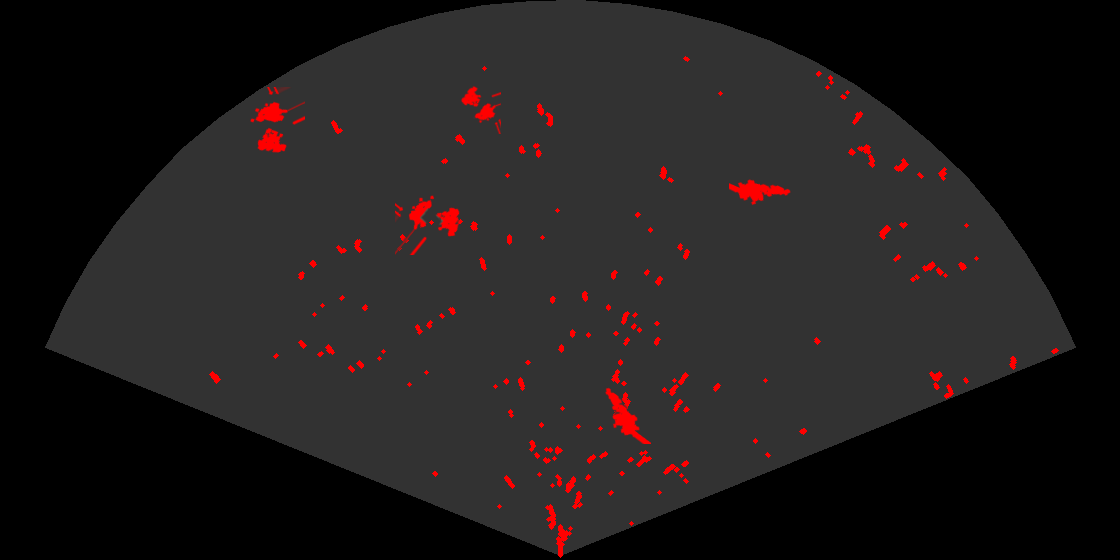cage: (395, 194, 461, 255), (249, 87, 305, 154), (459, 84, 501, 134)
frogman: (604, 386, 651, 444), (729, 178, 792, 207)
